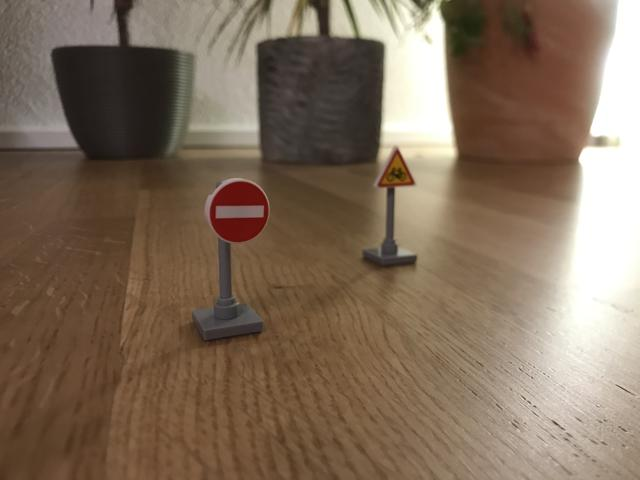radfahrer: (376, 146, 416, 189)
verbot der einfahrt: (210, 180, 271, 242)
